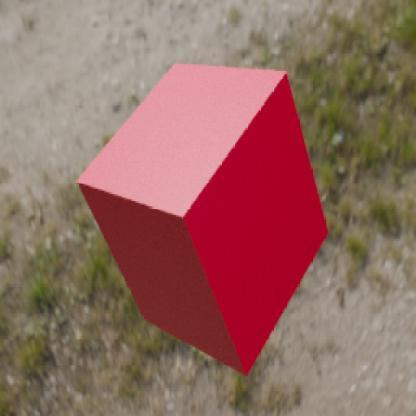red_cube: (75, 62, 329, 376)
